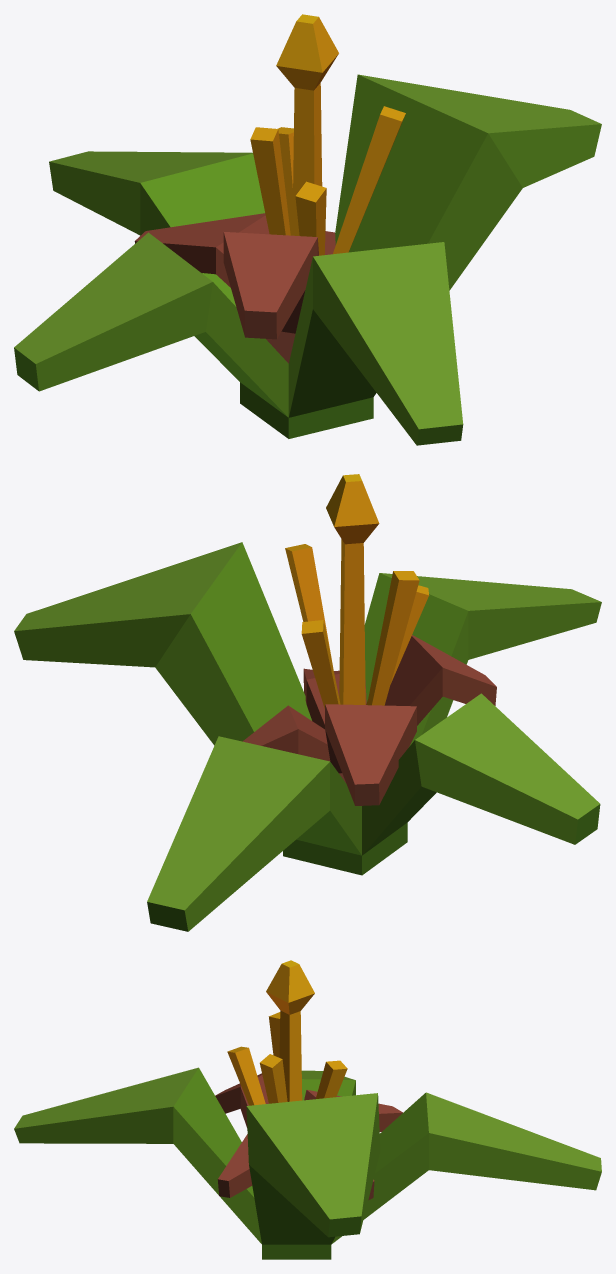
The model's file is ST_Prop_Plant_01.fbx.
3 views of the same model, one above another, from view 1: azimuth 30°, elevation 25°; view 2: azimuth 150°, elevation 25°; view 3: azimuth 270°, elevation 25° (orthographic). The views are drawn at different scales.
Parts seen in each view (by area): view 1: ST_Prop_Plant_01; view 2: ST_Prop_Plant_01; view 3: ST_Prop_Plant_01.
Part boxes in pixels (left/top/right/bottom): ST_Prop_Plant_01: left=14, top=14, right=601, bottom=445; ST_Prop_Plant_01: left=14, top=474, right=601, bottom=931; ST_Prop_Plant_01: left=14, top=960, right=601, bottom=1259.
Size of the model in its own units: 2.62 by 1.68 by 3.19.
